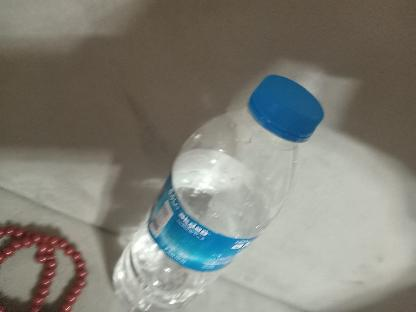Plastic Bottle: (108, 76, 328, 310)
